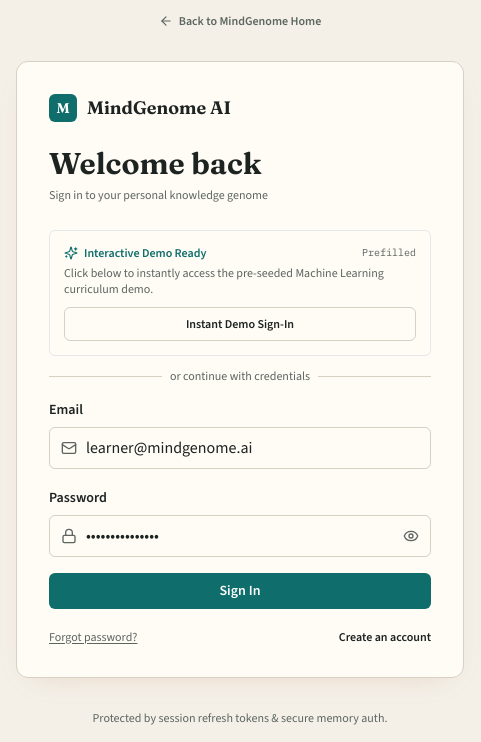
Test: AuthPages › LoginPage › toggles password visibility
The width and height of the screenshot is (481, 742).
Click the button named "show password". click: (411, 536)
box: [403,528,419,544]
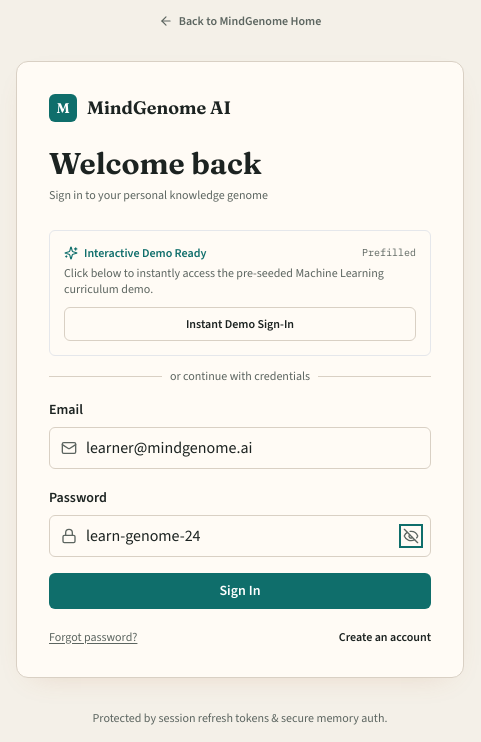
Check: the button named "hide password" is shown, box [403,528,419,544]
